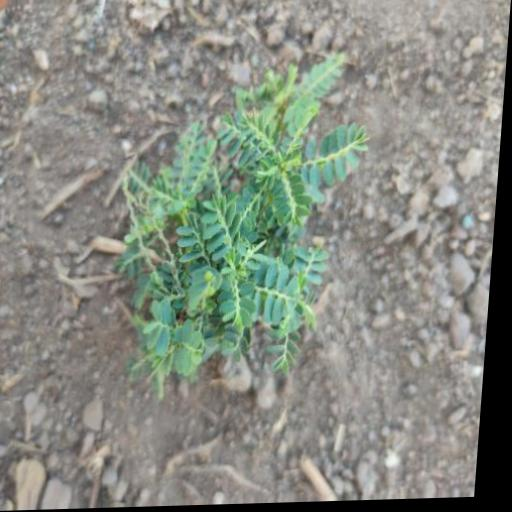weed: (100, 57, 378, 413)
